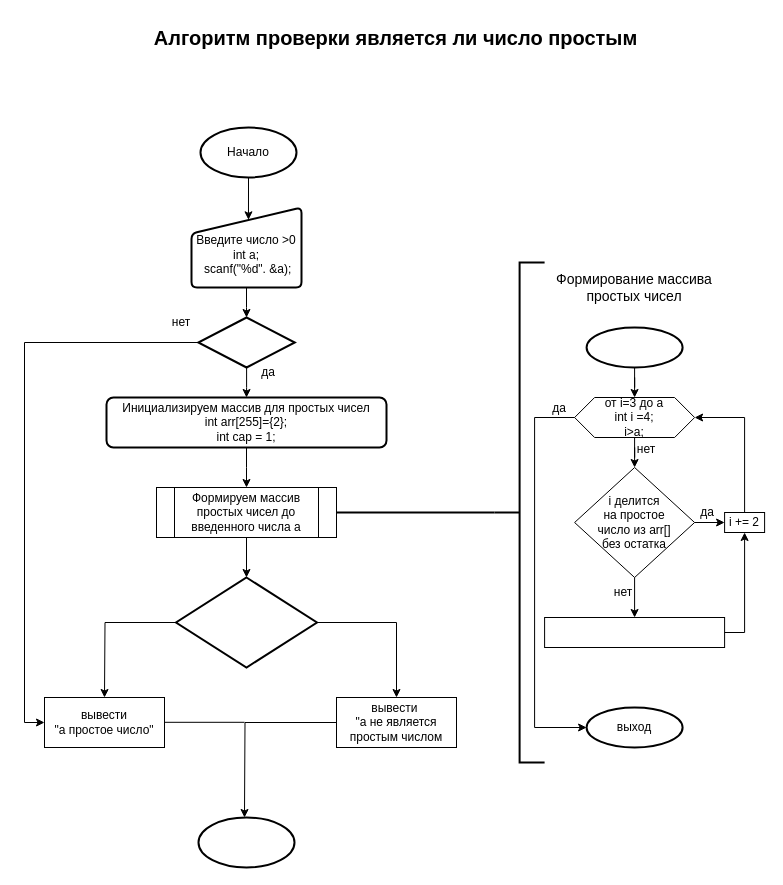
Image size: 783x885. Some labels were removed from this diagram. The centre of each missing label's shape, as x and y in pixels:
"a>3" belongs at (246,342).
"вход" belongs at (634,347).
"Записать число в массив увеличить длину массива на 1" belongs at (634,632).
"Конец" belongs at (246,842).
"Последнее число массива равно a?" belongs at (246,622).
